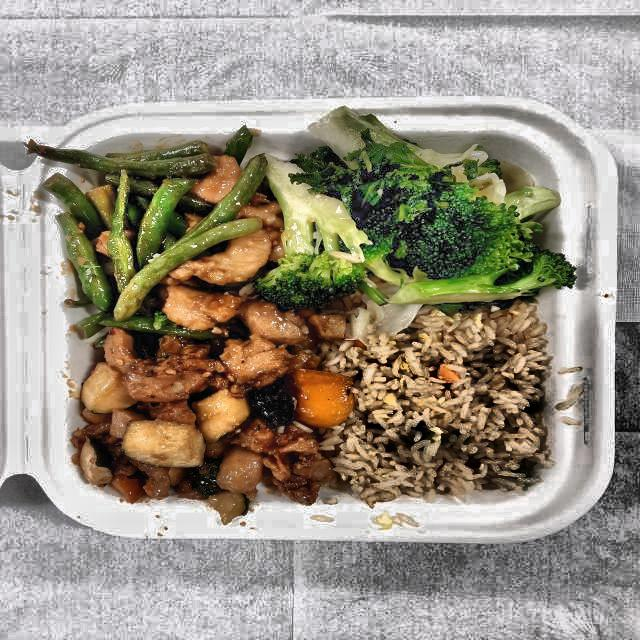Food: (64, 306, 352, 518), (274, 117, 568, 320), (324, 302, 561, 504), (49, 136, 280, 338)
